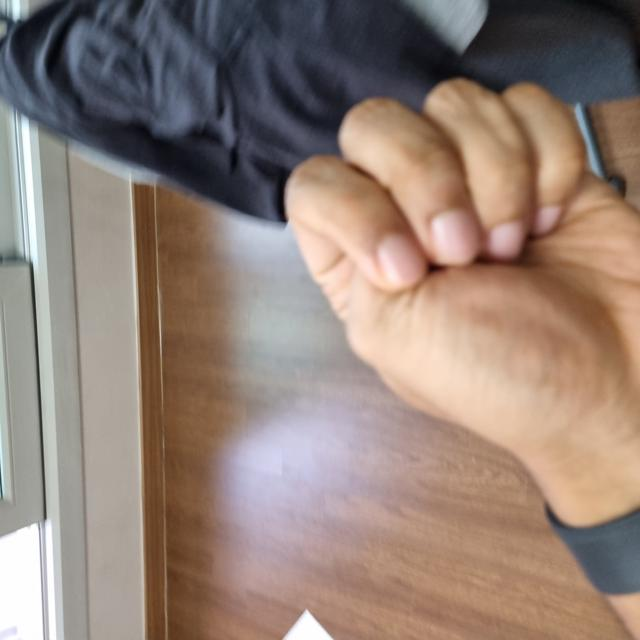Rock: (121, 290, 561, 639)
